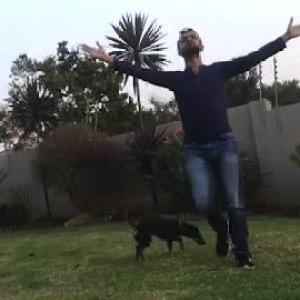takeoff: (114, 42, 294, 248)
